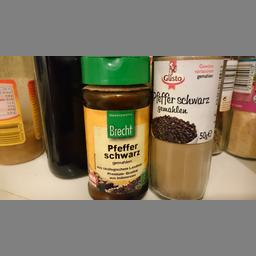spices: (150, 55, 224, 198), (80, 56, 150, 198)
